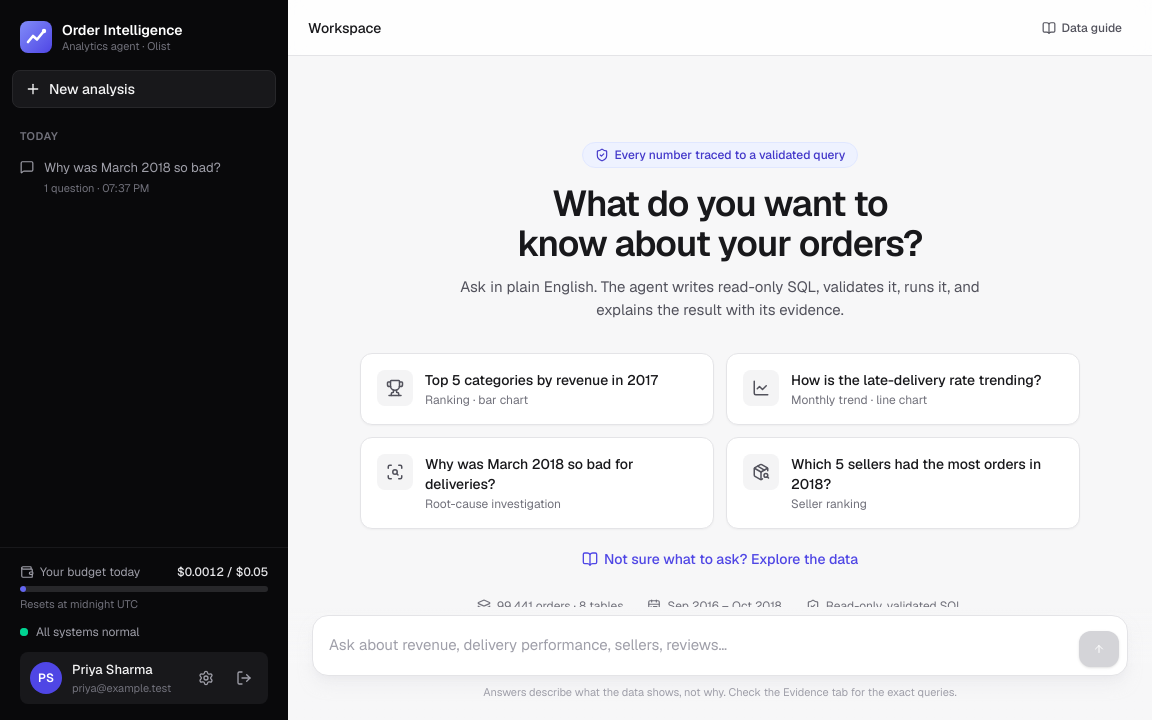
Test: Workspace › restores the scope bar when the reopened investigation's scope is still active
Check: the heading "What do you want to know about your orders?" is shown, box [517,180,923,267]
Click the button "Why was March 2018 so bad? 1 question · 07:37 PM" at (144, 177), box [12,150,276,204]
(page scrolled)
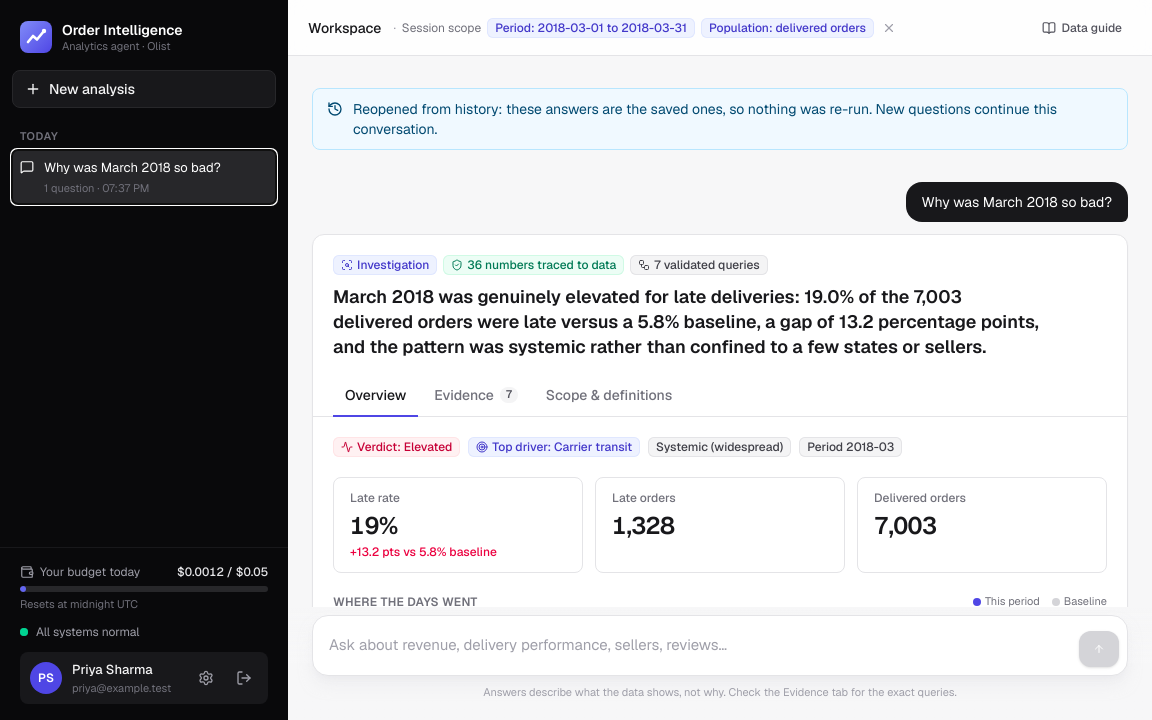
Check: the text "Period: 2018-03-01 to 2018-03-31" is shown, box [487,18,695,38]
Check: the text "New questions continue this conversation" is shown, box [353,100,1057,138]
